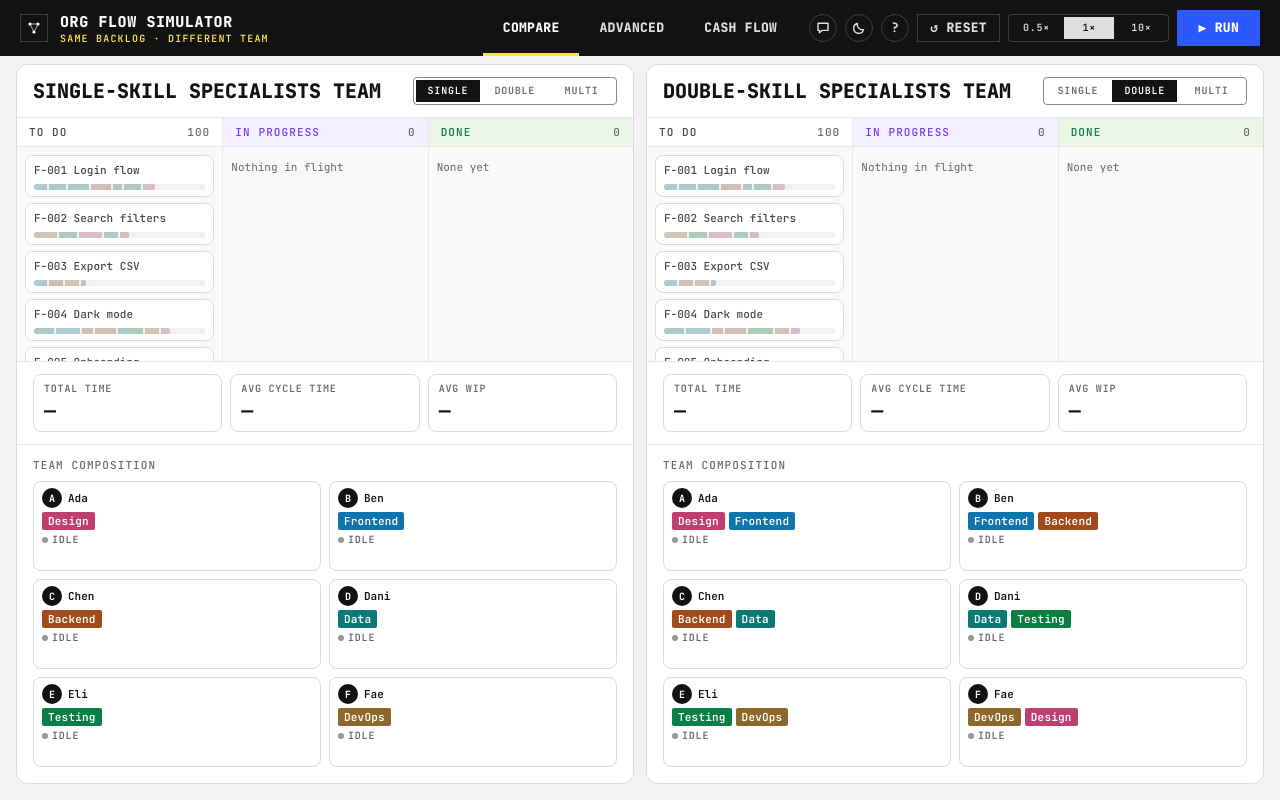
it: feat-022 Příklad 1: nadpisy Units a Metrics jako ostatní panely (Advanced) › počet jednotek stojí vedle nadpisu „Units“ ve stejném stylu jako počet u Backlogu
Click the tab "Advanced": click(632, 28) x1=580 y1=0 x2=684 y2=56
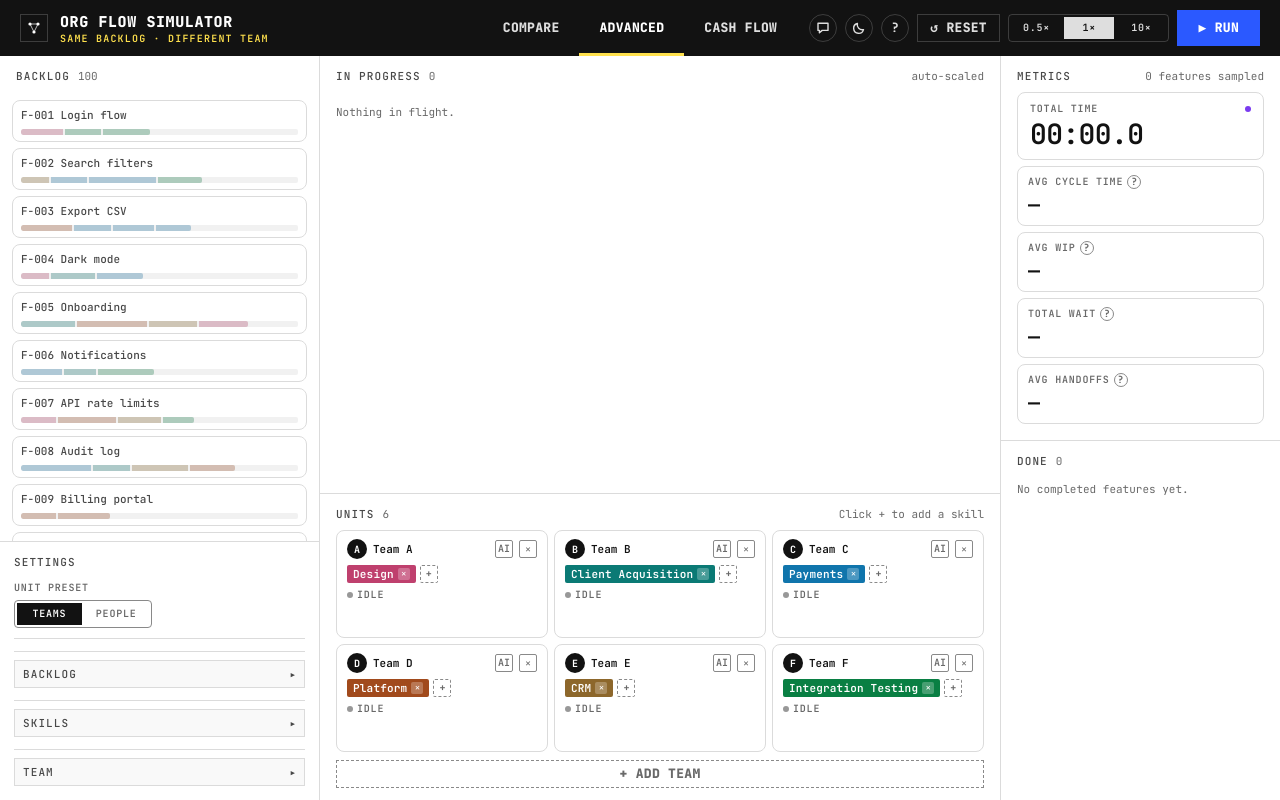
Now the text "6" is shown, box x1=382 y1=506 x2=389 y2=522
